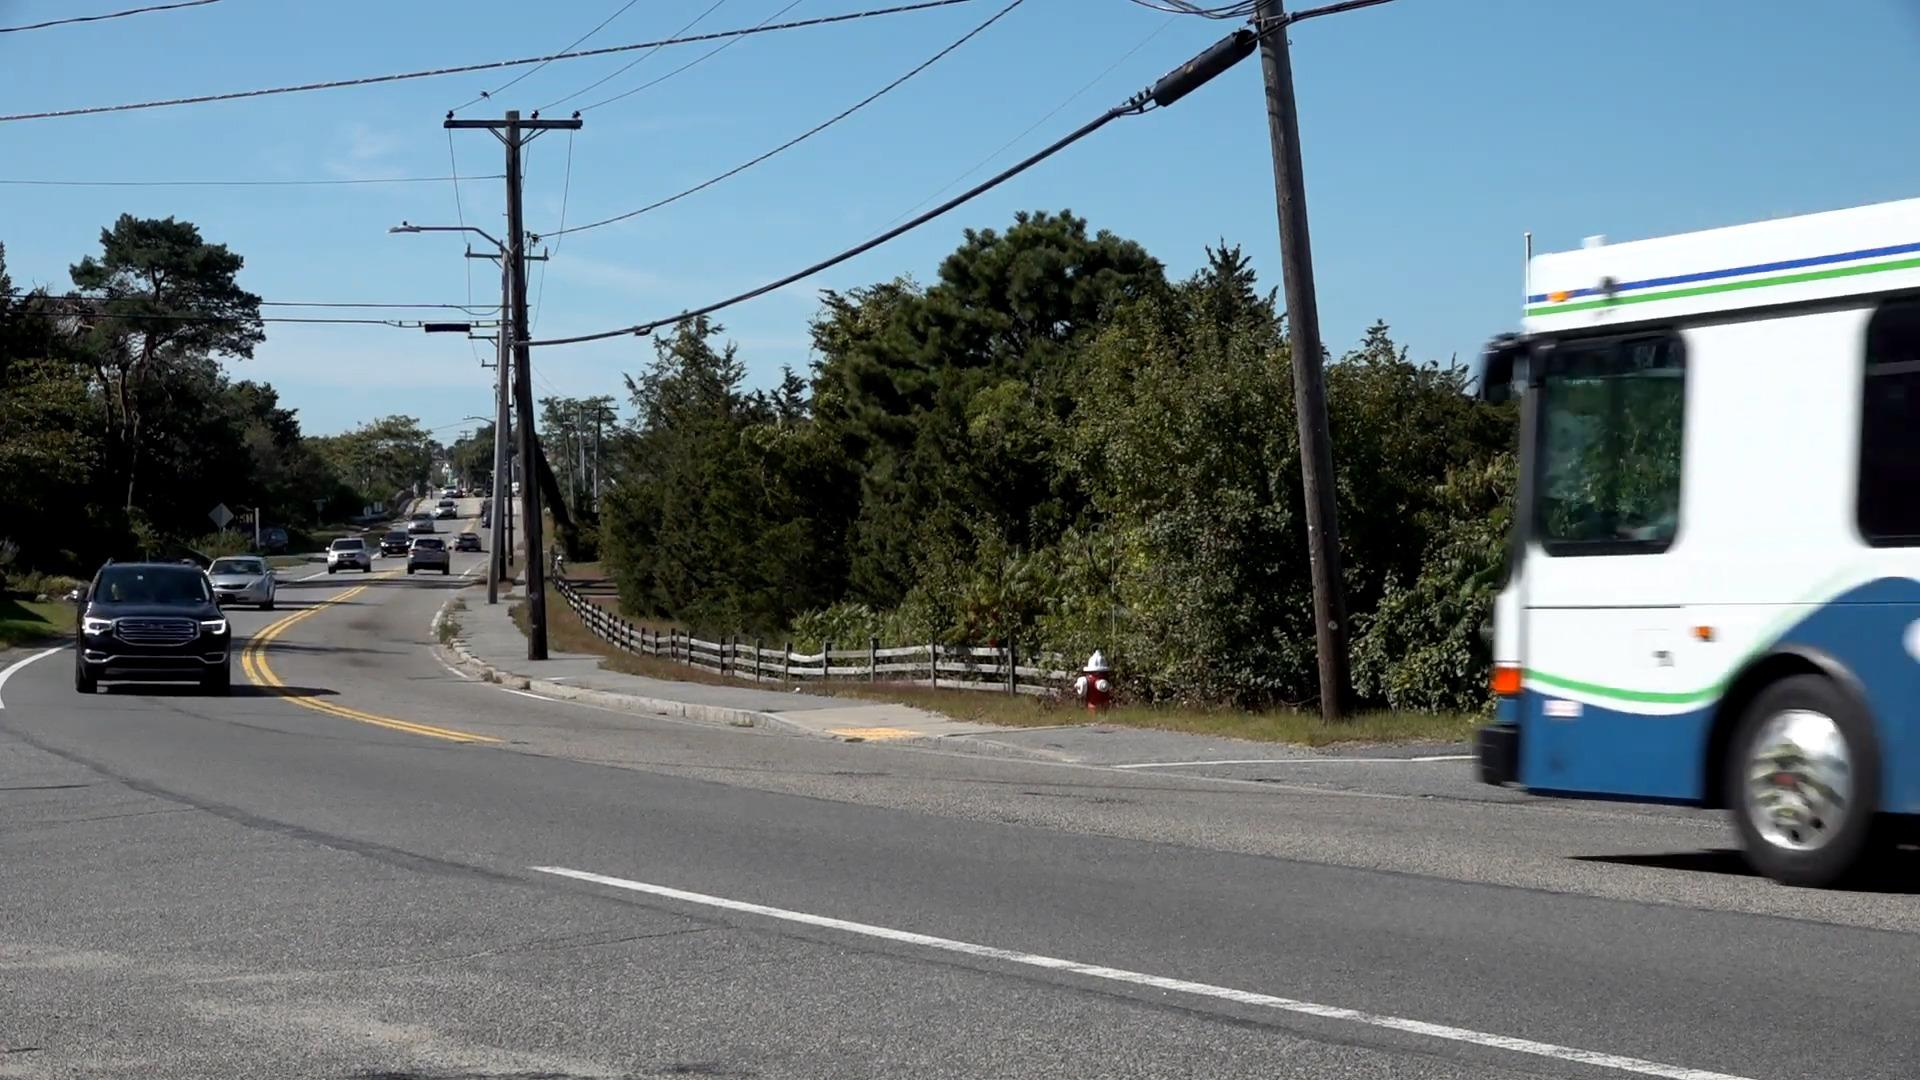suv: (76, 554, 232, 696)
truck: (1509, 196, 1920, 891)
